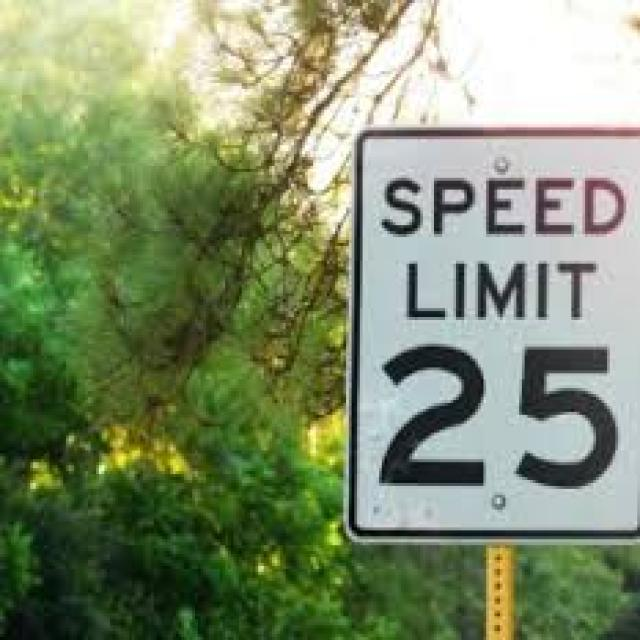speedLimit25: (345, 119, 636, 542)
